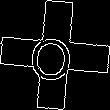O_N: (31, 28, 79, 82)
